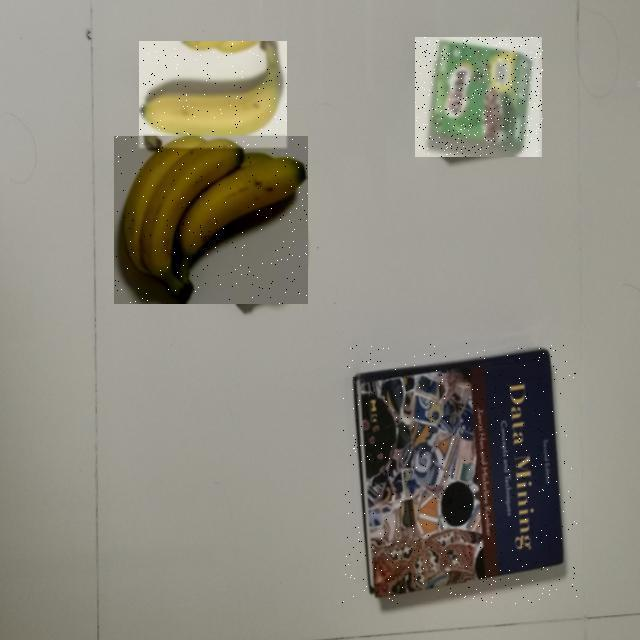Banana: (115, 136, 309, 304), (139, 41, 287, 148)
Book: (342, 343, 577, 604)
Cereal: (416, 37, 544, 157)
